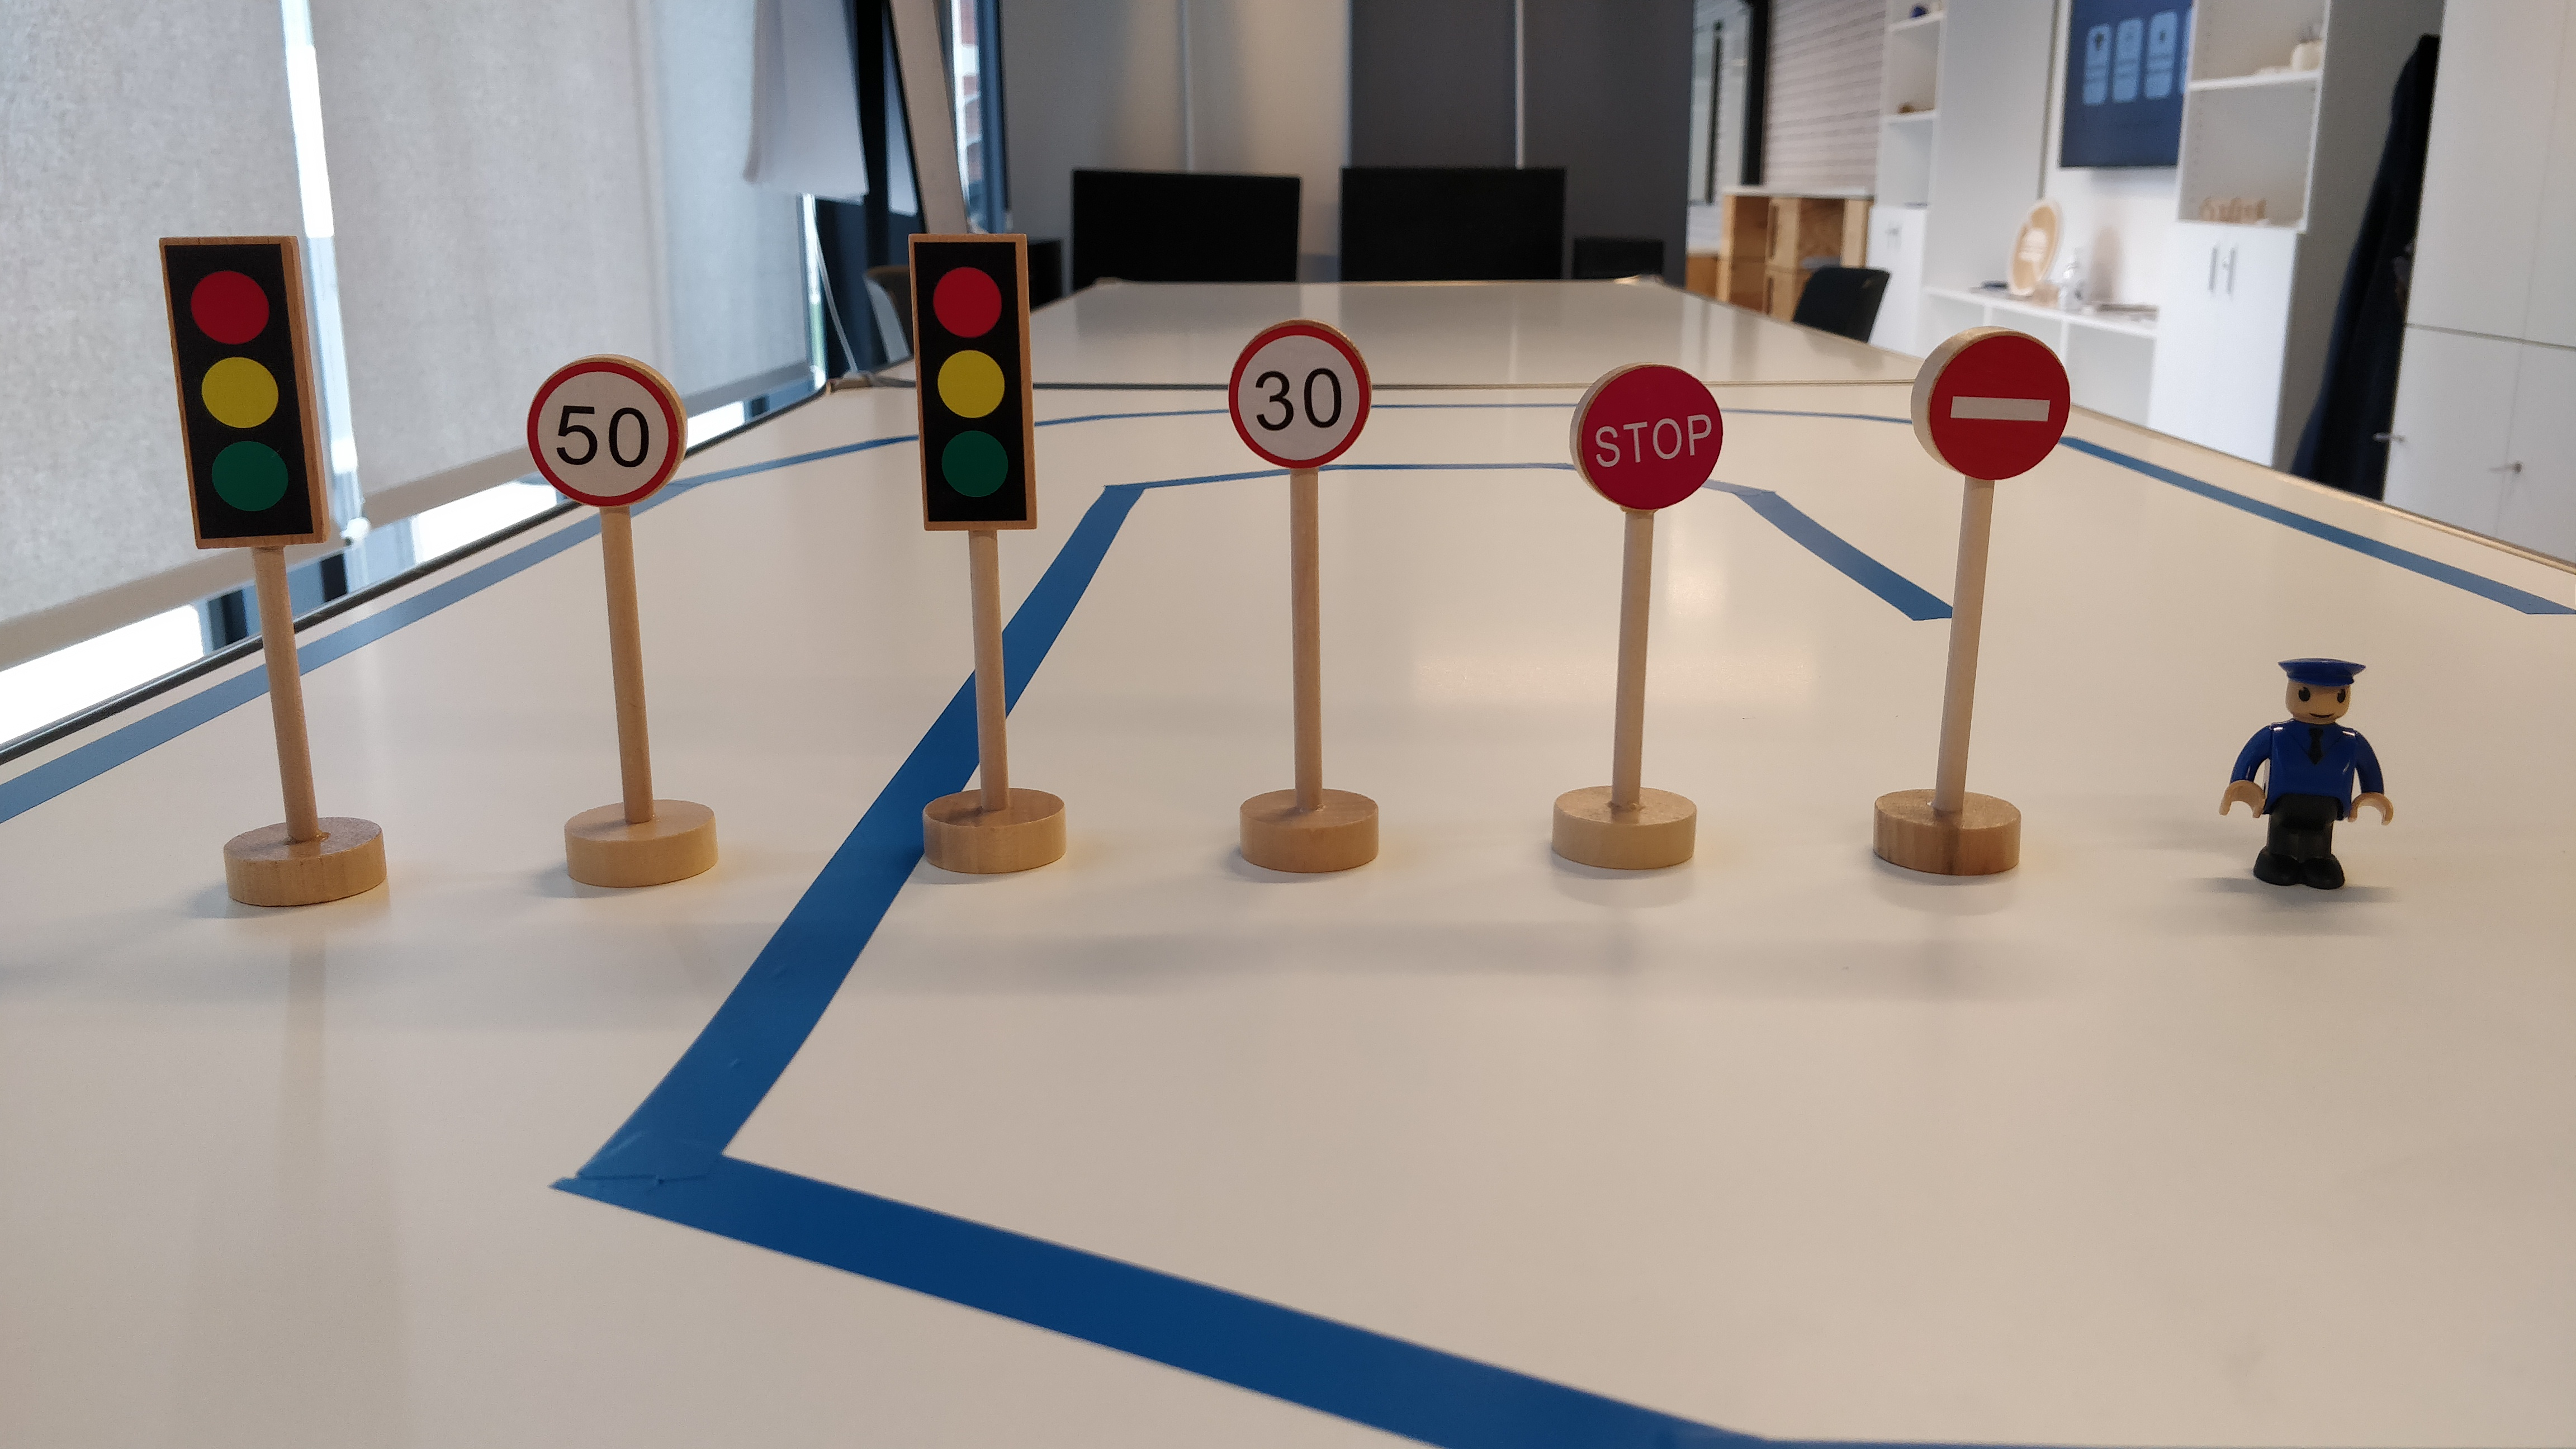Person: (2218, 655, 2400, 893)
Prohibition Sign: (1929, 333, 2071, 479)
Speed Limit 30: (1230, 320, 1376, 471)
Speed Limit 50: (524, 356, 687, 510)
Stop Sign: (1577, 364, 1725, 509)
Traffic Light: (157, 236, 328, 548), (907, 235, 1036, 531)
